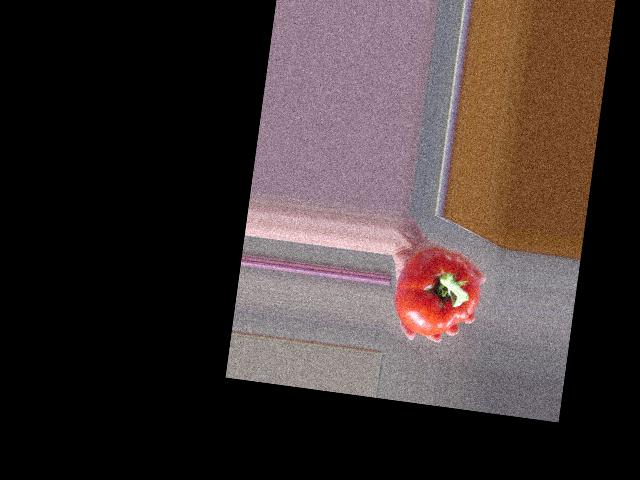tomato: (389, 244, 485, 342)
